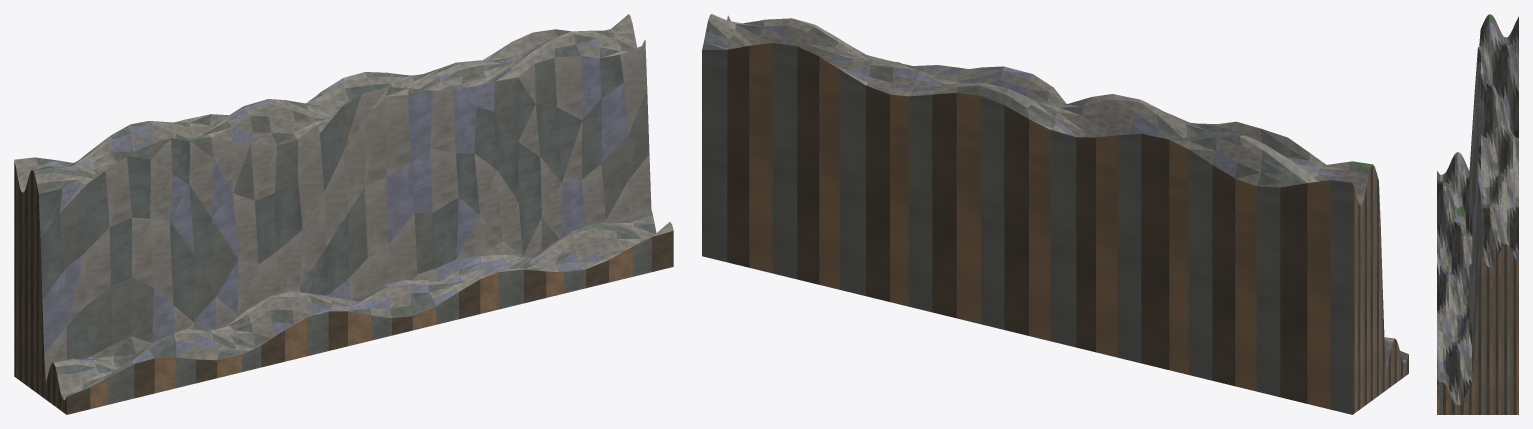
The model's file is cliff_wall_straight.fbx.
3 renders of one model, left to right at view 1: azimuth 30°, elevation 25°; view 2: azimuth 150°, elevation 25°; view 3: azimuth 270°, elevation 25°, orthographic. The views are drawn at different scales.
Visible parts, largest first — view 1: cliff_wall_straight; view 2: cliff_wall_straight; view 3: cliff_wall_straight.
Boxes of the visible parts, <box> form: cliff_wall_straight: <box>14,14,673,414</box>; cliff_wall_straight: <box>702,14,1408,414</box>; cliff_wall_straight: <box>1437,14,1518,414</box>.
Size of the model in its own units: 4000 by 1450 by 600.
Materials: 1 (1 with a texture image).
